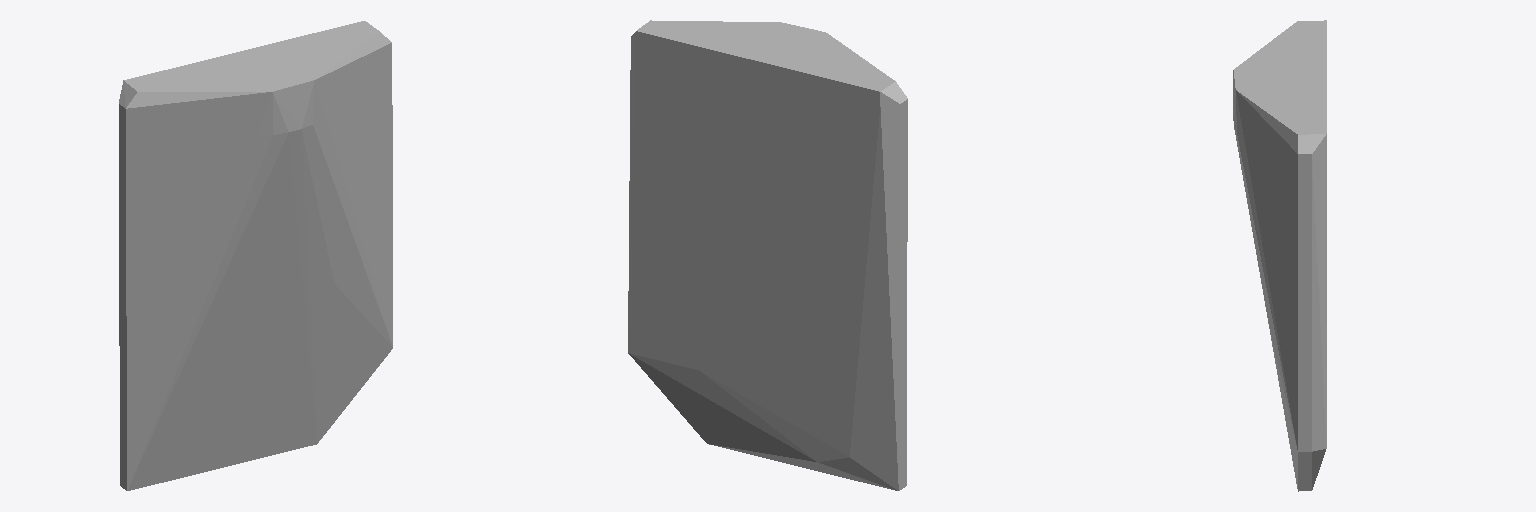
robot.urdf — root:
<?xml version='1.0' encoding='utf-8'?>
<robot name="root">
  <link name="link_001">
    <visual>
      <origin xyz="0 0 0" rpy="0 0 0" />
      <geometry>
        <mesh filename="b59e0eecdb59e397ad24d4b800ad94075076654d8a7c922ad2be3b58614c9fff_scale_185.stl" scale="1.0000E+00 1.0000E+00 1.0000E+00" />
      </geometry>
      <material name="">
        <color rgba="7.50E-01 7.50E-01 7.50E-01 1" />
      </material>
    </visual>
    <collision>
      <origin xyz="0 0 0" rpy="0 0 0" />
      <geometry>
        <mesh filename="b59e0eecdb59e397ad24d4b800ad94075076654d8a7c922ad2be3b58614c9fff_scale_185.stl" scale="1.0000E+00 1.0000E+00 1.0000E+00" />
      </geometry>
    </collision>
  </link>
</robot>

--- Render facts (derived) ---
Views: 3 orthographic renders of the robot side by side, from view 1: azimuth 30°, elevation 25°; view 2: azimuth 150°, elevation 25°; view 3: azimuth 270°, elevation 25°.
Robot: root — 1 links, 0 joints (none); root link link_001; default pose: every joint at zero.
Links seen in each view (by area): view 1: link_001; view 2: link_001; view 3: link_001.
Link boxes in pixels (bbox=[...]): link_001: bbox=[119, 21, 392, 490]; link_001: bbox=[628, 20, 907, 490]; link_001: bbox=[1233, 20, 1326, 491].
Size in the robot's own frame: 0.0776 by 0.024 by 0.1104 metres.
Meshes: 1 distinct files referenced, 1 mesh visuals loaded (1 binary STL).
